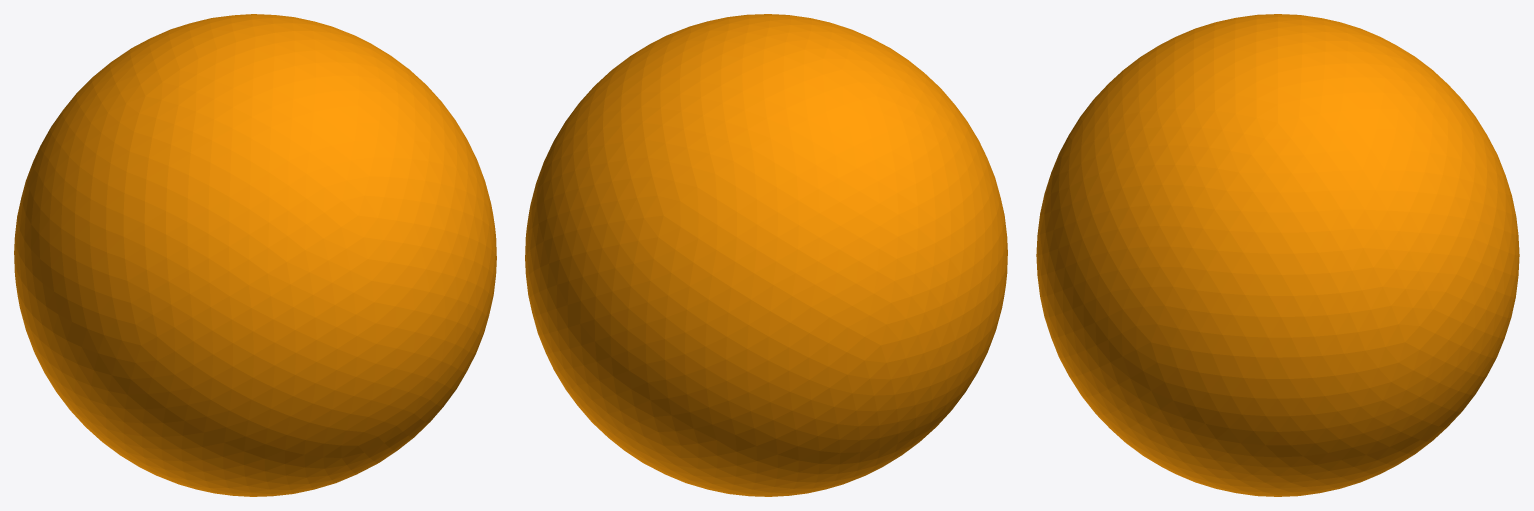
File: SGOP_data_6.obj
3 renders of one model, left to right at view 1: azimuth 30°, elevation 25°; view 2: azimuth 150°, elevation 25°; view 3: azimuth 270°, elevation 25°, orthographic.
Bounding box in the file's own units: 20 × 20 × 20.
